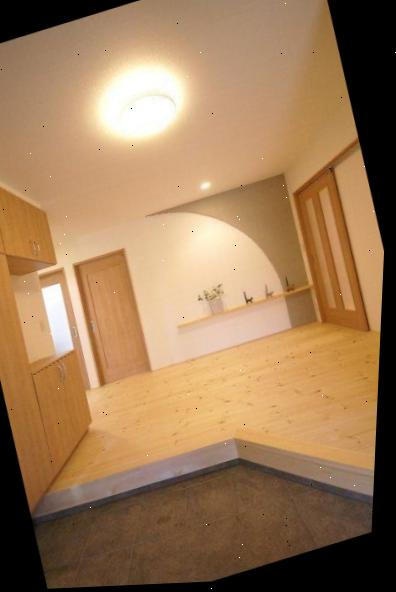floor: (31, 463, 373, 589)
safe: (44, 320, 380, 494)
